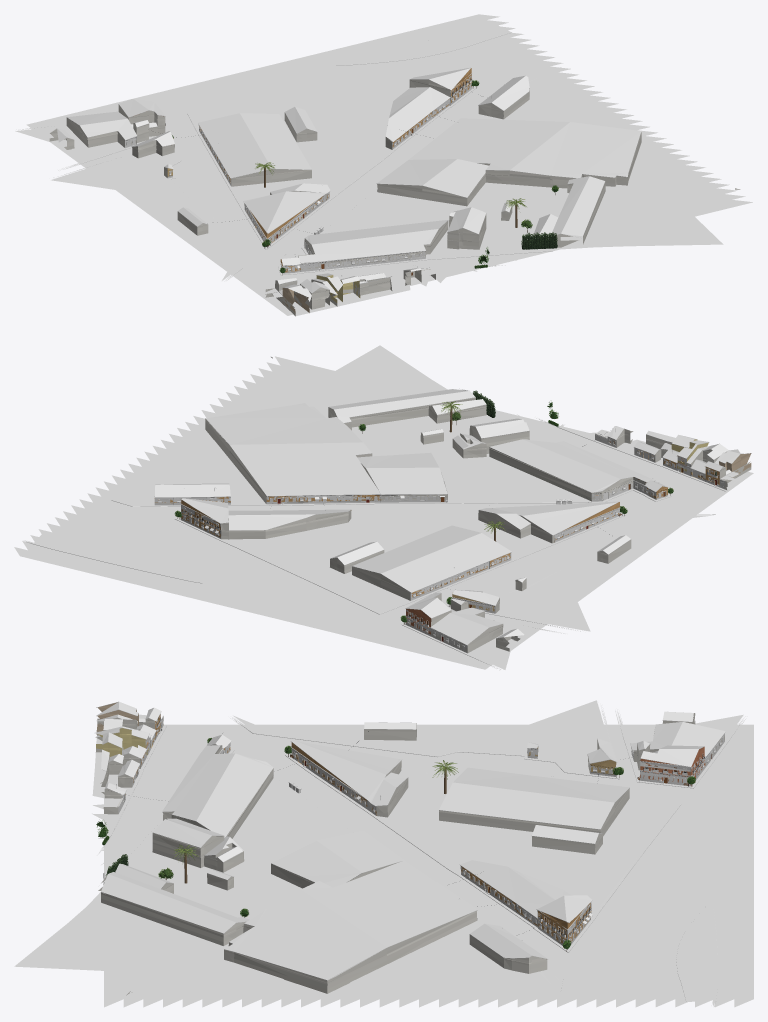
The model's file is zona_3_-1.glb.
3 views of the same model, one above another, from view 1: azimuth 30°, elevation 25°; view 2: azimuth 150°, elevation 25°; view 3: azimuth 270°, elevation 25° (orthographic). The views are drawn at different scales.
Parts seen in each view (by area): view 1: z_calle_3_-1, z_tejados_3_-1, z_casas_3_-1, z_suelo_3_-1, z_fachadas_3_-1, z_arboles_3_-1; view 2: z_calle_3_-1, z_tejados_3_-1, z_casas_3_-1, z_fachadas_3_-1, z_suelo_3_-1, z_arboles_3_-1; view 3: z_calle_3_-1, z_tejados_3_-1, z_casas_3_-1, z_suelo_3_-1, z_fachadas_3_-1, z_arboles_3_-1.
Part boxes in pixels (box(x1,y1,x2,y2)): z_calle_3_-1: box(15, 14, 752, 316); z_tejados_3_-1: box(55, 67, 641, 301); z_casas_3_-1: box(49, 68, 740, 313); z_suelo_3_-1: box(84, 88, 521, 279); z_fachadas_3_-1: box(125, 73, 472, 288); z_arboles_3_-1: box(172, 80, 558, 274); z_calle_3_-1: box(14, 345, 753, 670); z_tejados_3_-1: box(154, 389, 751, 645); z_casas_3_-1: box(154, 357, 751, 652); z_fachadas_3_-1: box(154, 433, 724, 653); z_suelo_3_-1: box(176, 414, 648, 627); z_arboles_3_-1: box(174, 390, 673, 624); z_calle_3_-1: box(14, 700, 753, 1007); z_tejados_3_-1: box(95, 701, 725, 980); z_casas_3_-1: box(96, 702, 724, 995); z_suelo_3_-1: box(101, 726, 693, 957); z_fachadas_3_-1: box(103, 714, 724, 959); z_arboles_3_-1: box(96, 738, 695, 951).
Size of the model in its own units: 222 by 11.57 by 225.
